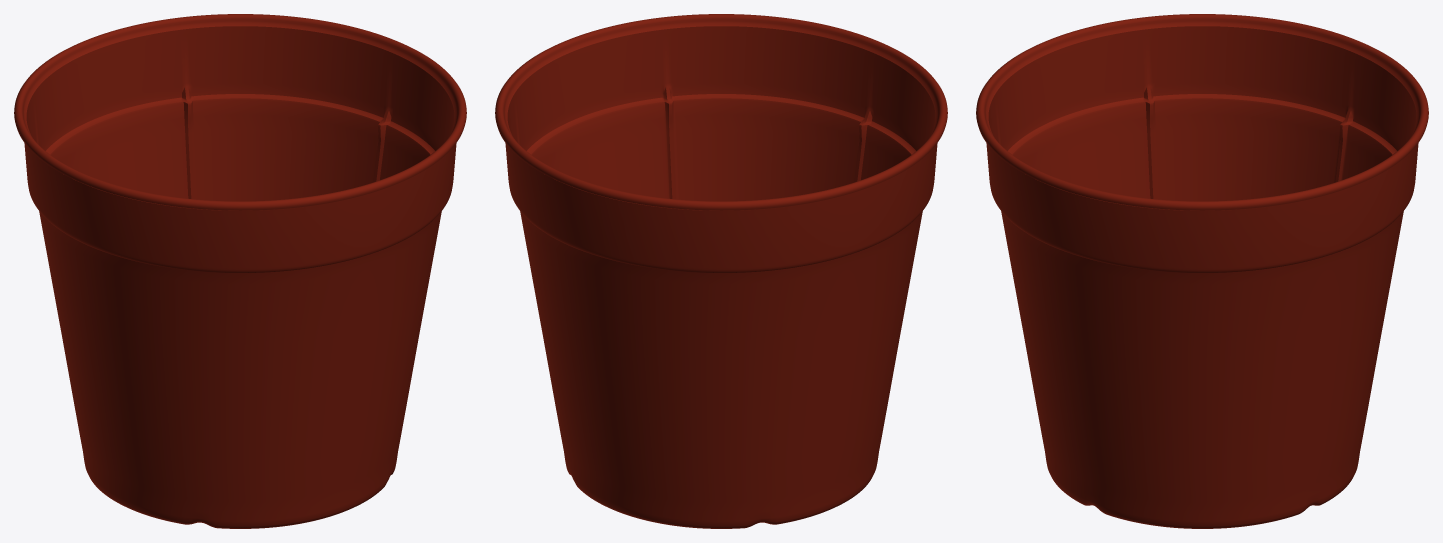
3 renders of one model, left to right at view 1: azimuth 30°, elevation 25°; view 2: azimuth 150°, elevation 25°; view 3: azimuth 270°, elevation 25°, orthographic.
Parts seen in each view (by area): view 1: part_000_Molded_vessel; view 2: part_000_Molded_vessel; view 3: part_000_Molded_vessel.
Boxes of the visible parts, x1,y1,x2,y2 form: part_000_Molded_vessel: (14, 14, 466, 528); part_000_Molded_vessel: (495, 14, 947, 528); part_000_Molded_vessel: (976, 14, 1428, 528).
Bounding box in the file's own units: 0.122 × 0.106 × 0.122.
